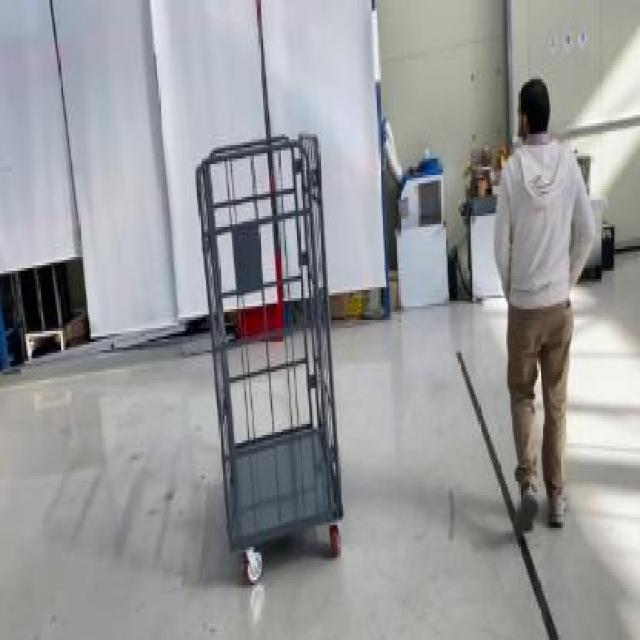cart: (197, 123, 352, 599)
person: (503, 82, 589, 533)
